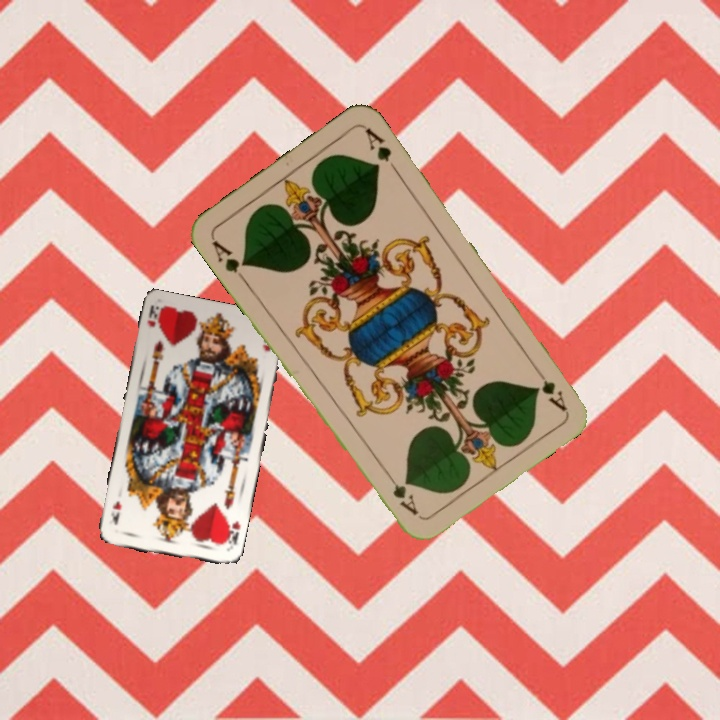GA: (529, 362, 570, 414), (208, 235, 250, 285)
HK: (220, 516, 243, 552), (143, 303, 163, 330)
